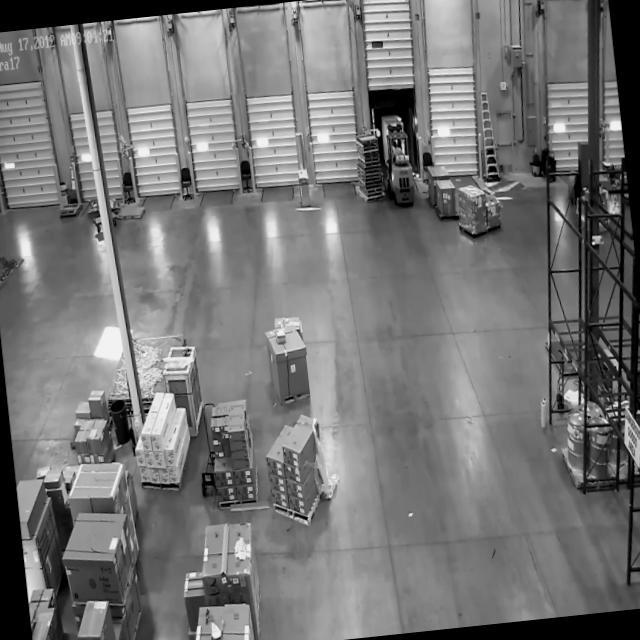forklift: (382, 122, 418, 210)
